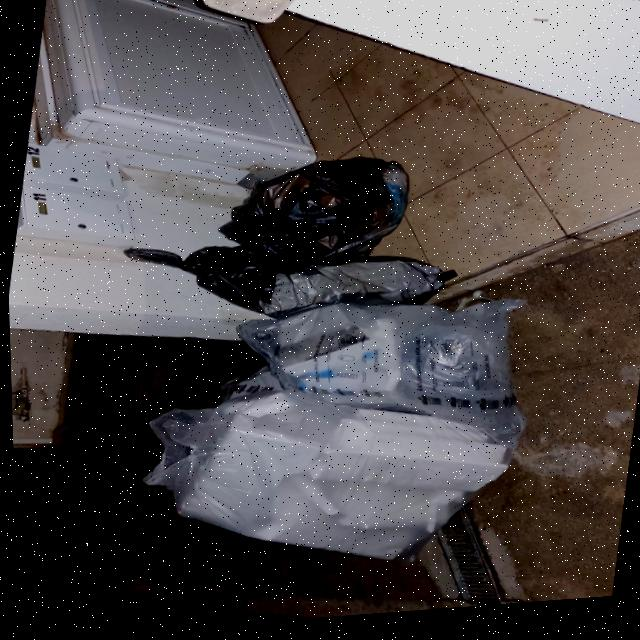Mixed Waste -Black Bag-: (113, 215, 473, 359), (211, 133, 413, 282)
Recycled Waste -Grey or Green Bag-: (123, 361, 540, 603), (216, 259, 542, 462)
